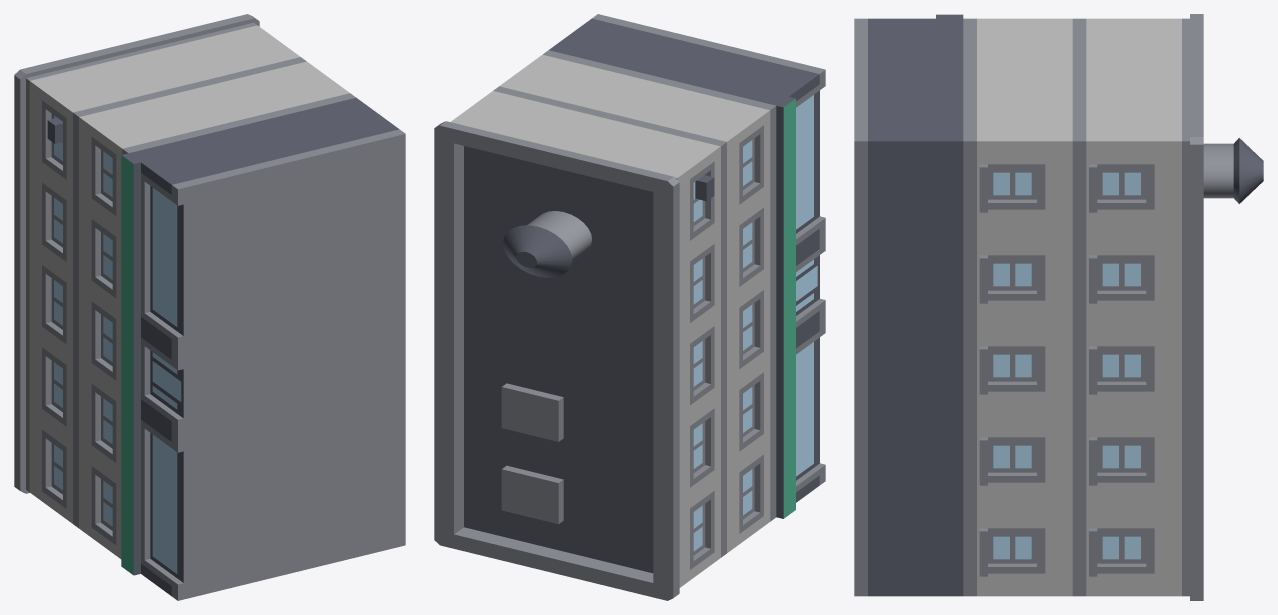
File: building6_right.glb
3 views of the same model, side by side, from view 1: azimuth 30°, elevation 25°; view 2: azimuth 150°, elevation 25°; view 3: azimuth 270°, elevation 25° (orthographic). The views are drawn at different scales.
Visible parts, largest first — view 1: large_buildingF; view 2: large_buildingF; view 3: large_buildingF.
Part boxes in pixels (x1,y1,x2,y2): large_buildingF: (14, 14, 405, 600); large_buildingF: (434, 14, 825, 600); large_buildingF: (854, 14, 1263, 600).
Bounding box in the file's own units: 6 × 10 × 8.
